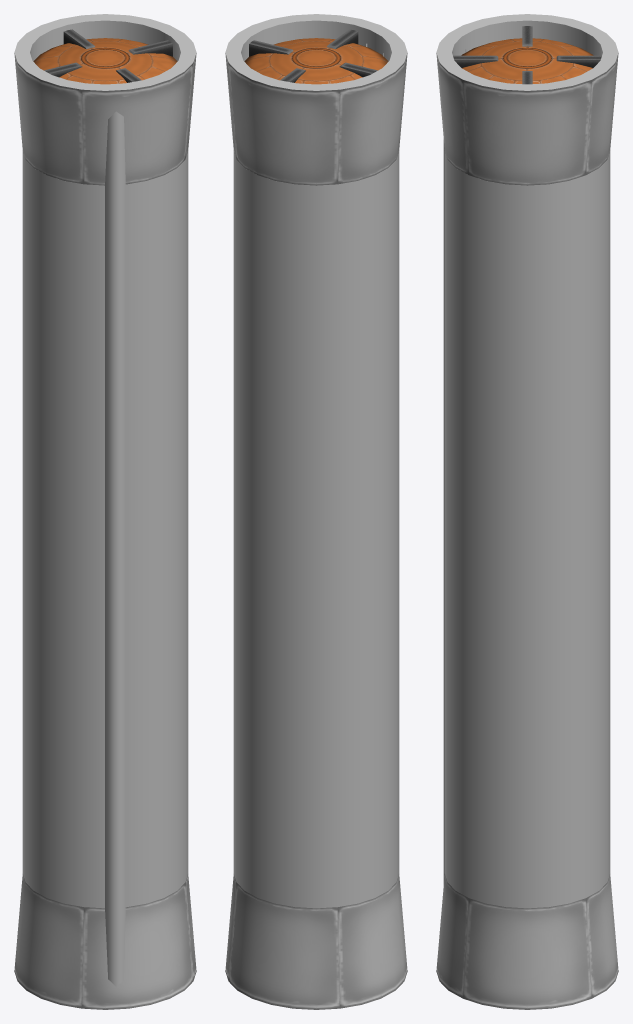
File: bluedog_AbleTank.dae
3 renders of one model, left to right at view 1: azimuth 30°, elevation 25°; view 2: azimuth 150°, elevation 25°; view 3: azimuth 270°, elevation 25°, orthographic.
Parts seen in each view (by area): view 1: strake, pCylinder34, TankTopper4; view 2: strake, pCylinder34, TankTopper4; view 3: strake, pCylinder34, TankTopper4.
Part boxes in pixels (x1=…): strake: x1=14, y1=14, x2=196, y2=986; pCylinder34: x1=14, y1=53, x2=196, y2=1009; TankTopper4: x1=33, y1=29, x2=177, y2=84; strake: x1=225, y1=14, x2=407, y2=908; pCylinder34: x1=225, y1=53, x2=407, y2=1009; TankTopper4: x1=244, y1=29, x2=388, y2=84; strake: x1=436, y1=14, x2=618, y2=908; pCylinder34: x1=436, y1=53, x2=618, y2=1009; TankTopper4: x1=453, y1=26, x2=601, y2=84.
Bounding box in the file's own units: 0.625 × 3.48 × 0.625.
